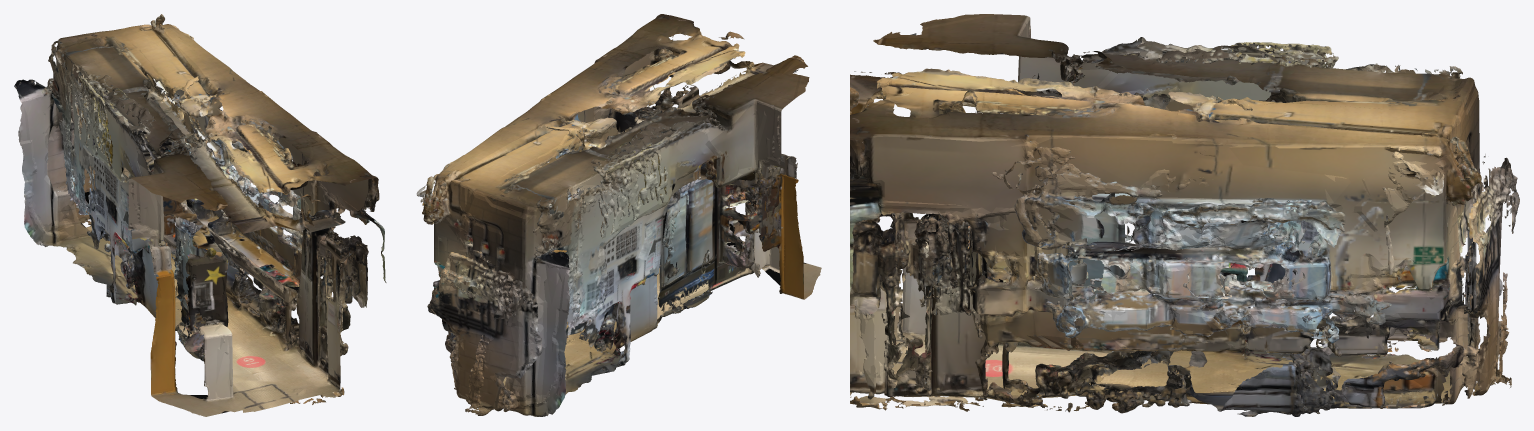
The model's file is MG_photo_IM.fbx.
3 views of the same model, side by side, from view 1: azimuth 30°, elevation 25°; view 2: azimuth 150°, elevation 25°; view 3: azimuth 270°, elevation 25° (orthographic). The views are drawn at different scales.
Visible parts, largest first — view 1: MG_photo_IM; view 2: MG_photo_IM; view 3: MG_photo_IM.
Boxes of the visible parts, <box> form: MG_photo_IM: <box>14,14,386,416</box>; MG_photo_IM: <box>416,14,821,416</box>; MG_photo_IM: <box>850,14,1519,416</box>.
Size of the model in its own units: 354 by 346 by 681.
1 material, 1 textured.
